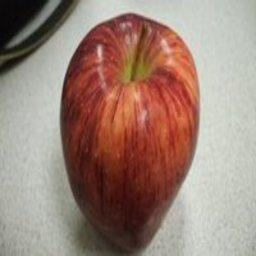apple: (59, 12, 200, 250)
